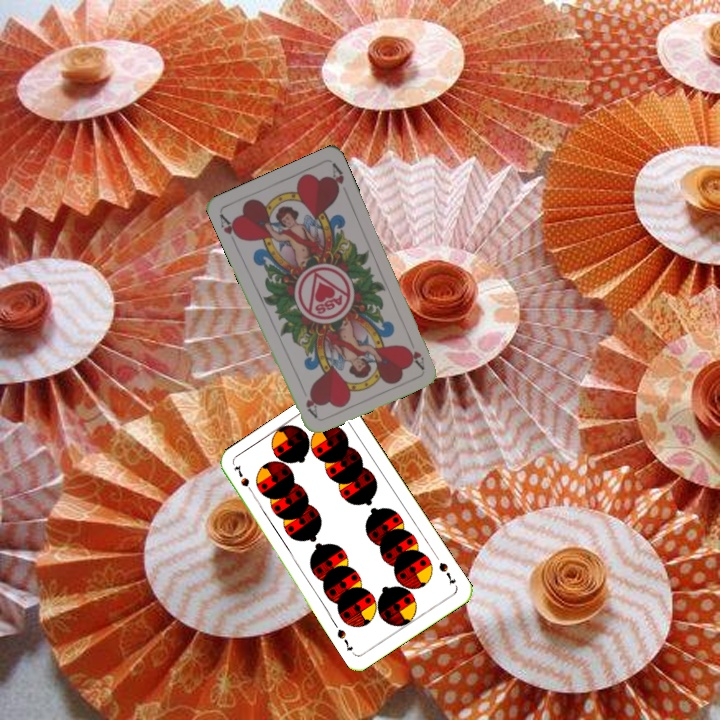HA: (215, 209, 244, 243), (402, 333, 427, 371)
S7: (230, 461, 257, 498), (435, 558, 458, 588)
